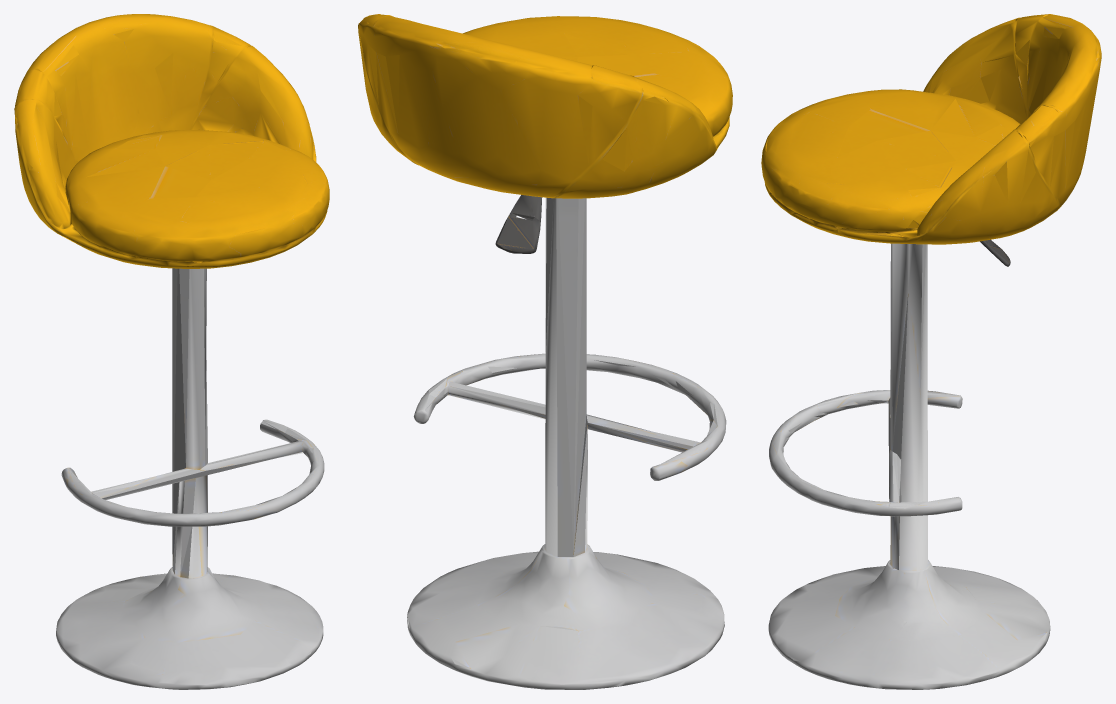
The model's file is addy_bar_stool.obj.
The picture shows the model from 3 angles, left to right: view 1: azimuth 30°, elevation 25°; view 2: azimuth 150°, elevation 25°; view 3: azimuth 270°, elevation 25°; orthographic projection. The views are drawn at different scales.
Visible parts, largest first — view 1: model; view 2: model; view 3: model.
Boxes of the visible parts, box(x1,y1,x2,y2) form: model: box(14, 14, 329, 689); model: box(358, 14, 732, 689); model: box(761, 14, 1101, 689).
Size of the model in its own units: 0.9934 by 1.9 by 0.9956.
